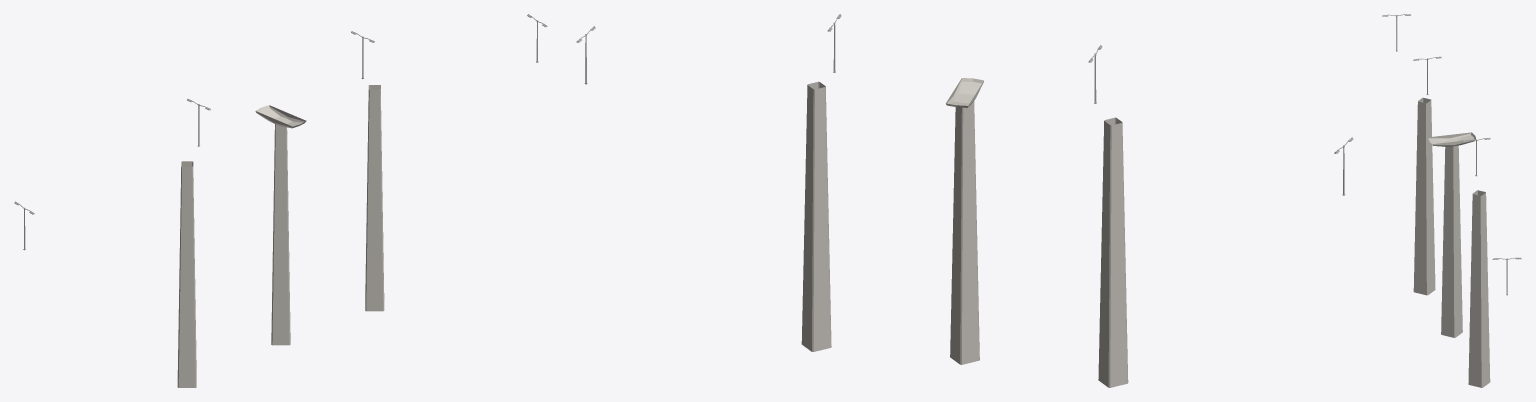
Rendered from pierbridgevertical.glb.
3 views of the same model, side by side, from view 1: azimuth 30°, elevation 25°; view 2: azimuth 150°, elevation 25°; view 3: azimuth 270°, elevation 25° (orthographic). The views are drawn at different scales.
Parts seen in each view (by area): view 1: cityblockassetkit.006, cityblockassetkit, cityblockassetkit.004; view 2: cityblockassetkit.006, cityblockassetkit.004, cityblockassetkit; view 3: cityblockassetkit.006, cityblockassetkit, cityblockassetkit.004.
Boxes of the visible parts, bbox=[...] form: cityblockassetkit.006: bbox=[255, 105, 306, 345]; cityblockassetkit: bbox=[365, 85, 384, 311]; cityblockassetkit.004: bbox=[177, 161, 196, 387]; cityblockassetkit.006: bbox=[946, 78, 983, 364]; cityblockassetkit.004: bbox=[1098, 117, 1128, 387]; cityblockassetkit: bbox=[801, 81, 831, 351]; cityblockassetkit.006: bbox=[1428, 132, 1475, 337]; cityblockassetkit: bbox=[1468, 190, 1490, 387]; cityblockassetkit.004: bbox=[1413, 97, 1435, 295].
Bounding box in the file's own units: 148 × 67.35 × 35.63.
Materials: 5 (2 with a texture image).
